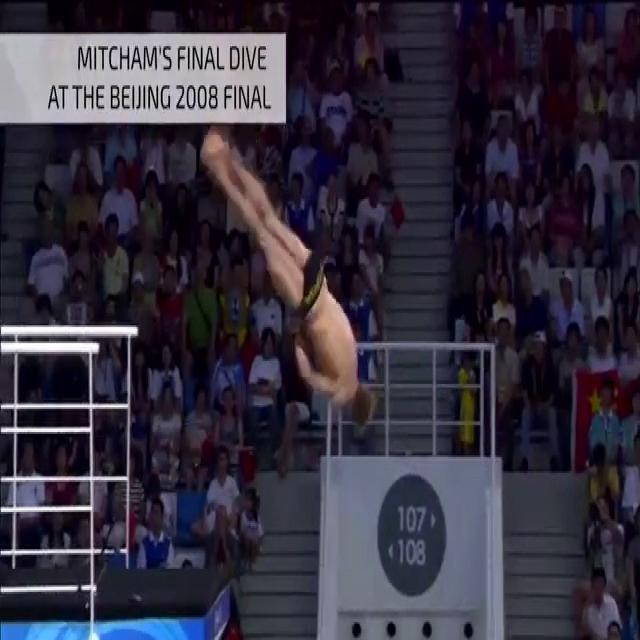non_violence: (209, 138, 375, 426)
